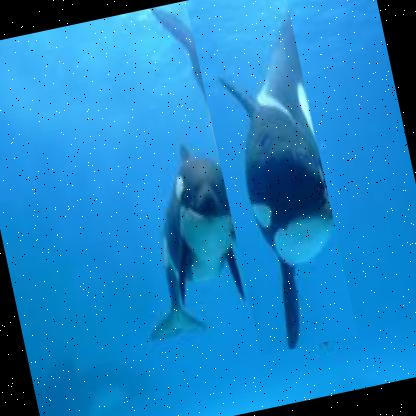killer_whale: (184, 0, 358, 357), (102, 128, 266, 389)
